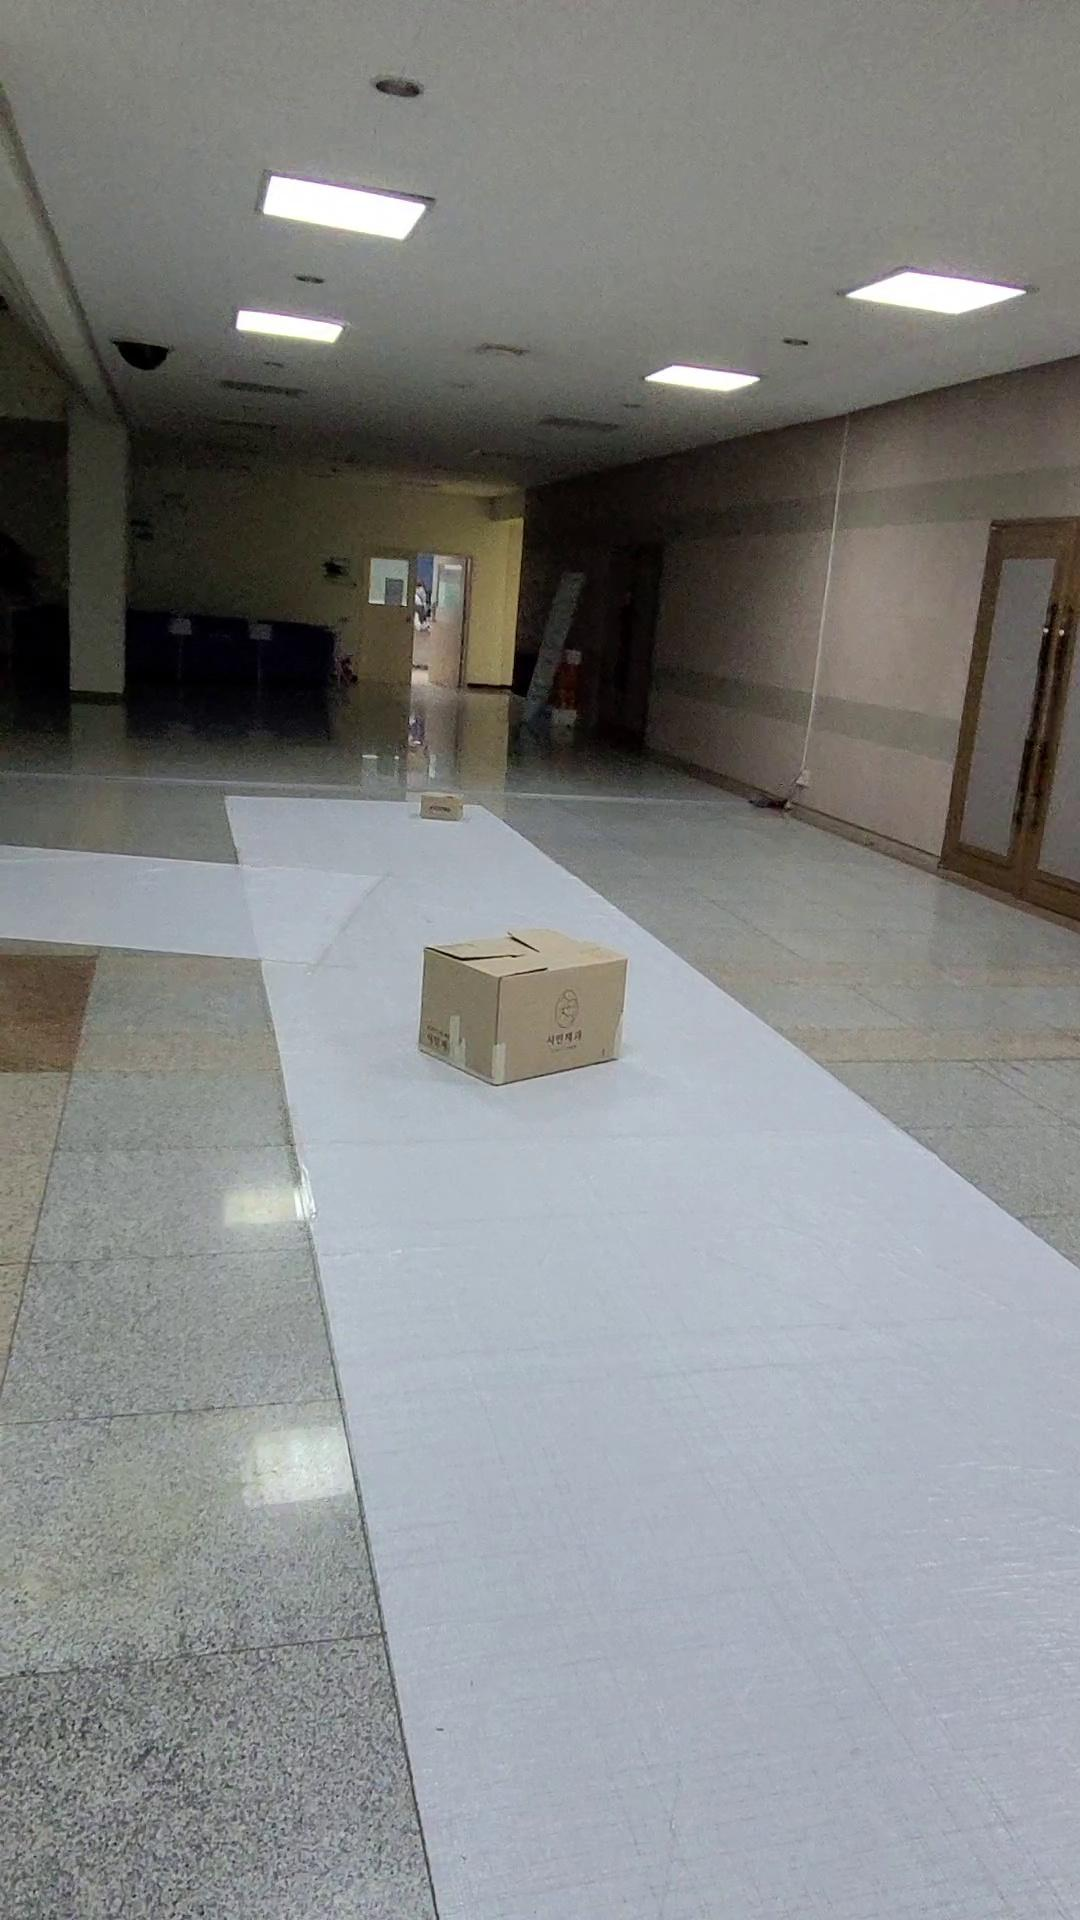Box: (404, 905, 673, 1139), (398, 773, 495, 825)
